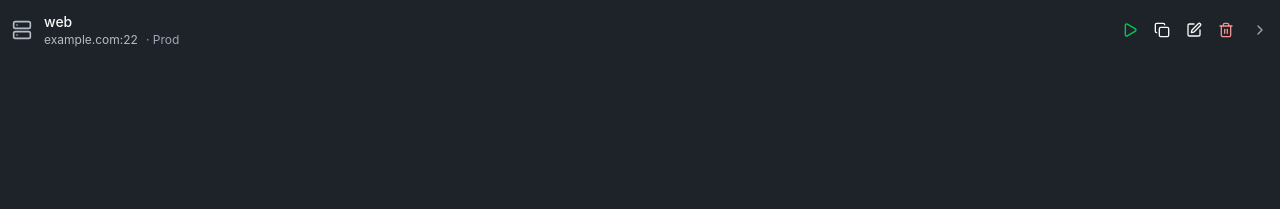
ConnectionList right-click context menu › opens a menu with Connect / Edit / Clone / Copy / Delete on right-click
Right-click the list item at (82, 40), box [12,13,1268,47]
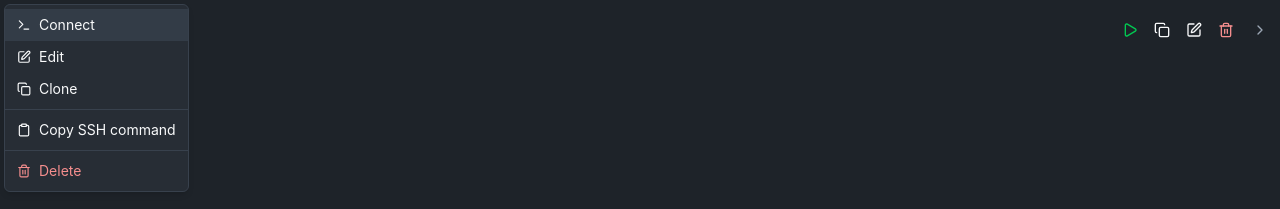
Result: the menu is shown at [4,4,189,192]
Result: the menu item "Connect" is shown at [5,9,188,41]
Result: the menu item "Edit" is shown at [5,41,188,73]
